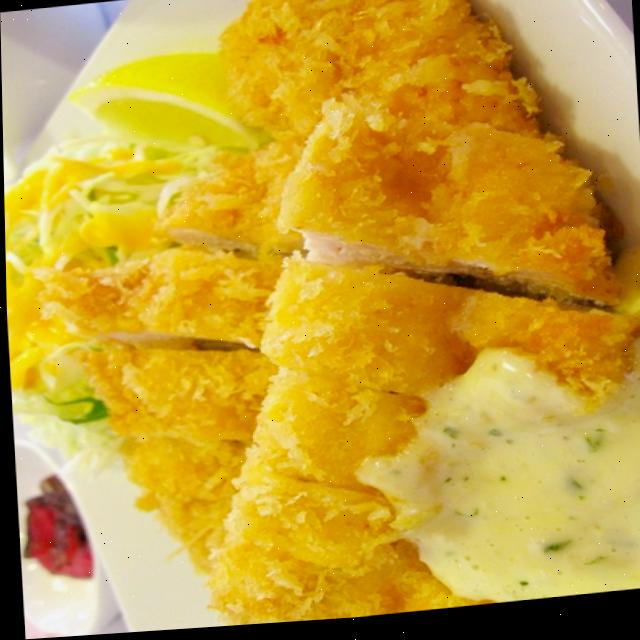鸡肉料理 含炸鸡: (0, 0, 631, 640)
